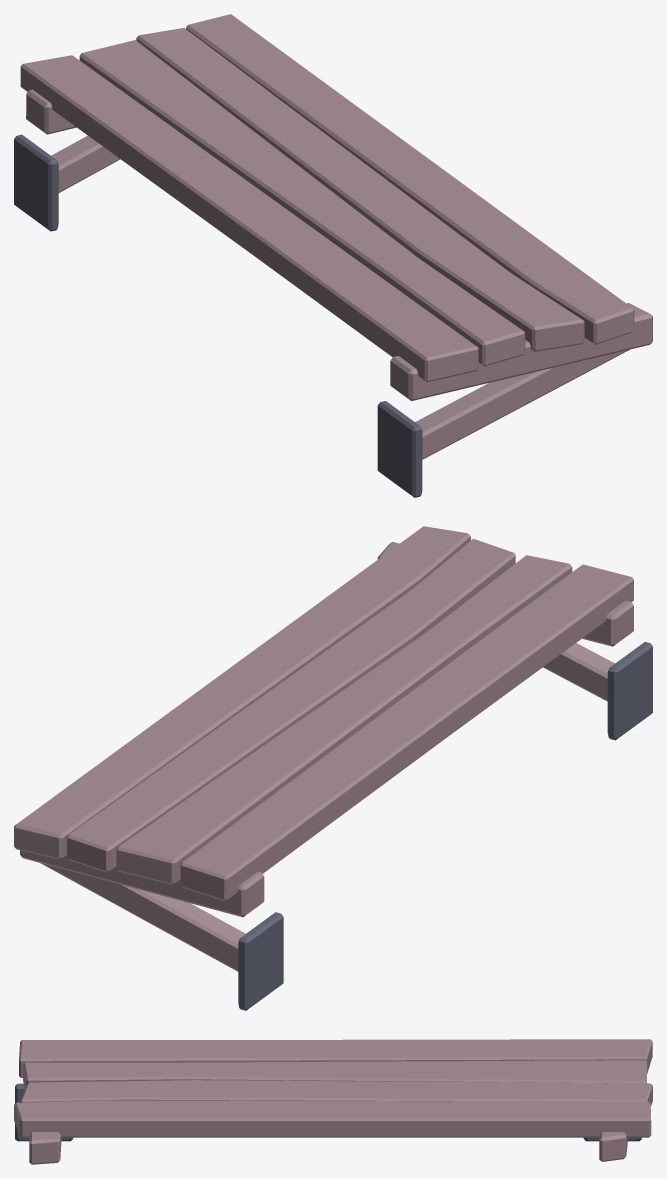
File: long_shelf.fbx
3 renders of one model, top to bottom at view 1: azimuth 30°, elevation 25°; view 2: azimuth 150°, elevation 25°; view 3: azimuth 270°, elevation 25°, orthographic. The views are drawn at different scales.
Visible parts, largest first — view 1: long_shelf; view 2: long_shelf; view 3: long_shelf.
Boxes of the visible parts, x1,y1,x2,y2 form: long_shelf: [14, 14, 652, 497]; long_shelf: [14, 526, 652, 1010]; long_shelf: [14, 1039, 652, 1164].
Size of the model in its own units: 3.17 by 1.63 by 8.98.
